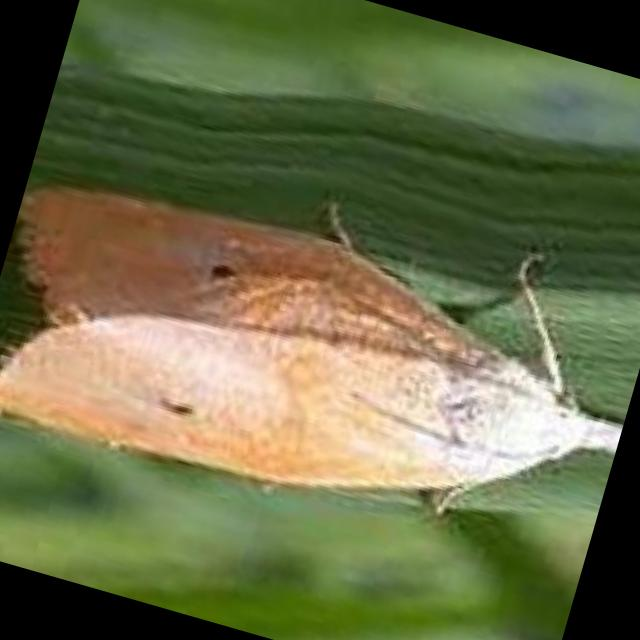stem-borer: (0, 111, 640, 584)
